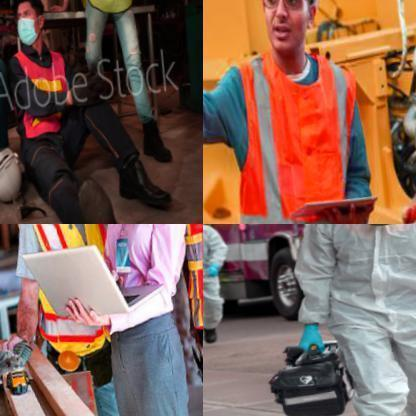vest: (208, 34, 412, 223), (0, 224, 144, 373), (280, 224, 415, 344), (10, 42, 80, 141), (203, 224, 244, 292)
